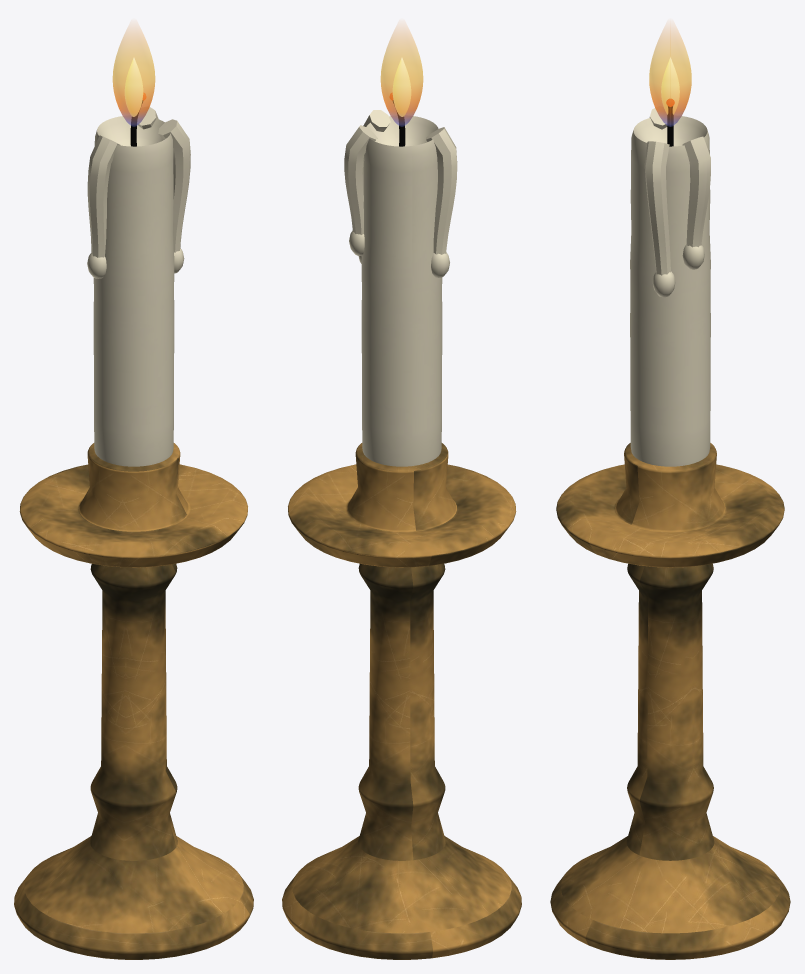
File: Candlestick_Hand.gltf
3 views of the same model, side by side, from view 1: azimuth 30°, elevation 25°; view 2: azimuth 150°, elevation 25°; view 3: azimuth 270°, elevation 25° (orthographic).
Parts seen in each view (by area): view 1: Candlestick_Hand_Brass, Candlestick_Hand_Body, Candlestick_Hand_Flame; view 2: Candlestick_Hand_Brass, Candlestick_Hand_Body, Candlestick_Hand_Flame; view 3: Candlestick_Hand_Brass, Candlestick_Hand_Body, Candlestick_Hand_Flame.
Boxes of the visible parts, bbox=[...] form: Candlestick_Hand_Brass: bbox=[14, 443, 253, 959]; Candlestick_Hand_Body: bbox=[87, 93, 190, 466]; Candlestick_Hand_Flame: bbox=[112, 25, 155, 126]; Candlestick_Hand_Brass: bbox=[282, 443, 521, 959]; Candlestick_Hand_Body: bbox=[344, 93, 457, 466]; Candlestick_Hand_Flame: bbox=[380, 25, 423, 126]; Candlestick_Hand_Brass: bbox=[550, 443, 790, 959]; Candlestick_Hand_Body: bbox=[630, 99, 710, 466]; Candlestick_Hand_Flame: bbox=[649, 23, 691, 126].
Bounding box in the file's own units: 0.0875 × 0.361 × 0.0875.
Materials: 6 (3 with a texture image).
